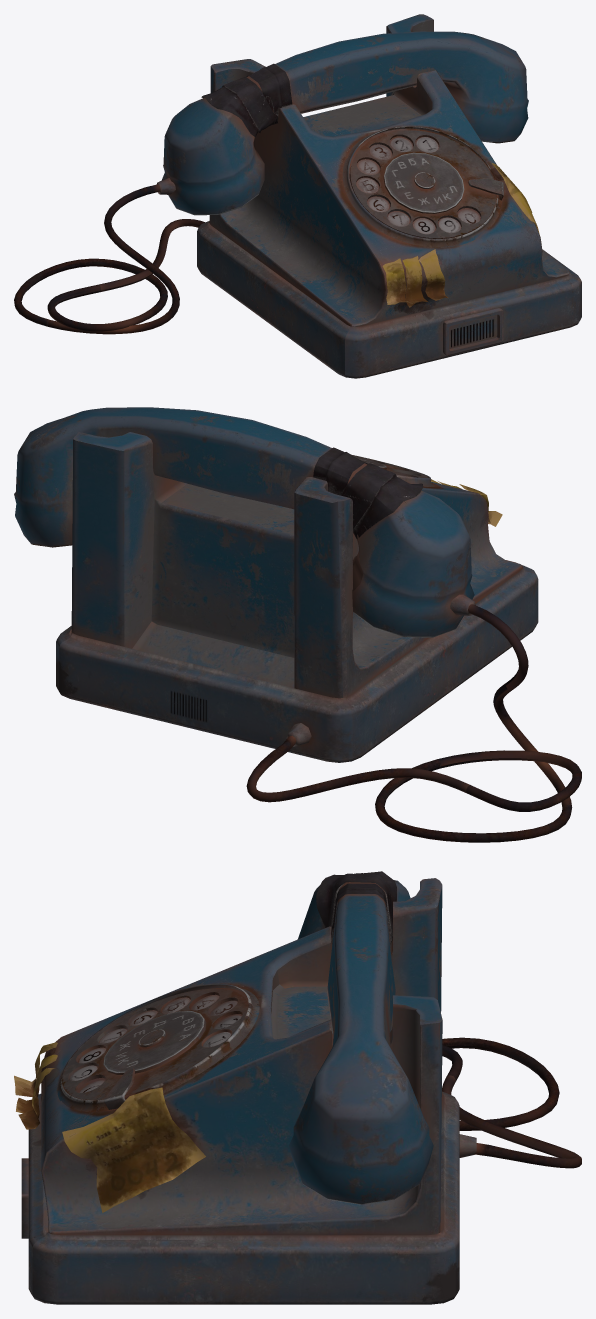
File: old_phone_blue_2.glb
The picture shows the model from 3 angles, top to bottom: view 1: azimuth 30°, elevation 25°; view 2: azimuth 150°, elevation 25°; view 3: azimuth 270°, elevation 25°; orthographic projection. The views are drawn at different scales.
Parts seen in each view (by area): view 1: pCube2; view 2: pCube2; view 3: pCube2.
Boxes of the visible parts, x1=… form: pCube2: x1=14, y1=14, x2=581, y2=378; pCube2: x1=14, y1=407, x2=581, y2=842; pCube2: x1=14, y1=871, x2=581, y2=1304.
Bounding box in the file's own units: 2 × 0.9313 × 1.56.
1 material, 1 textured.
